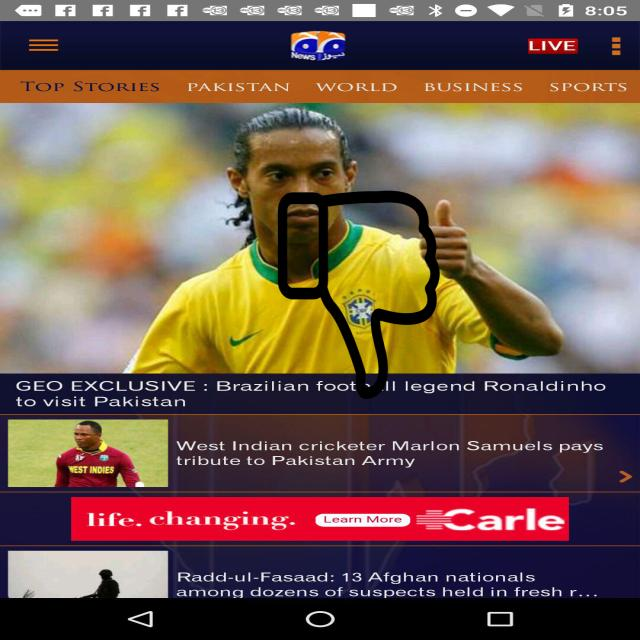obstruction: (276, 191, 442, 399)
